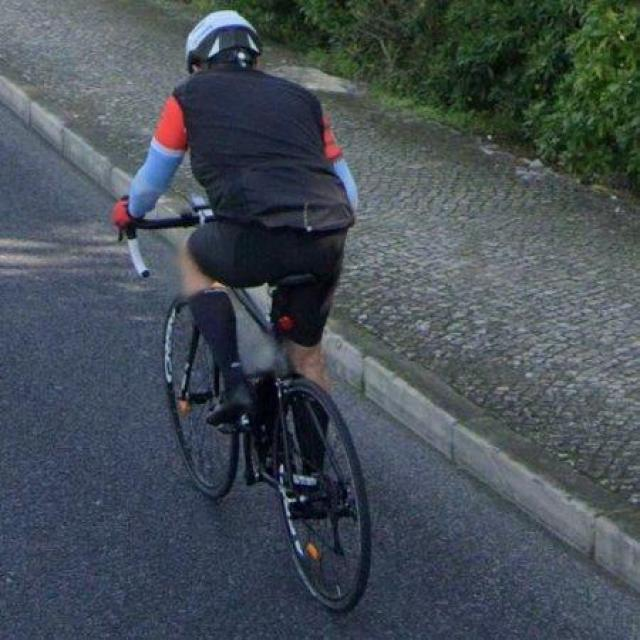bicycle: (165, 300, 373, 615)
